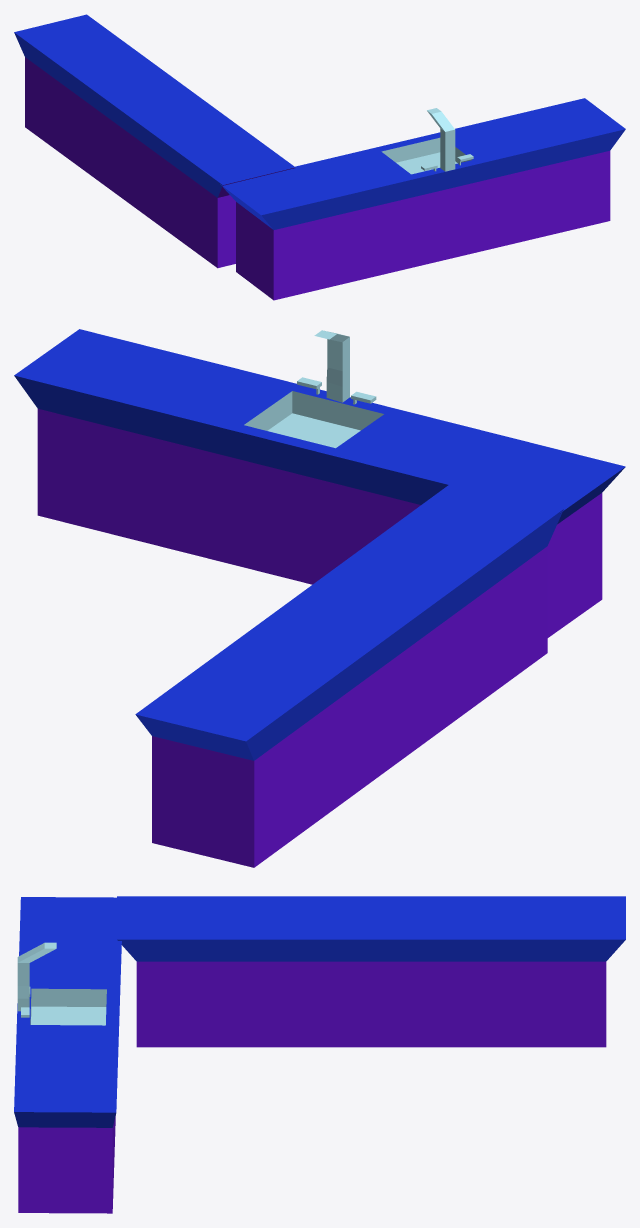
Rendered from kitchen counter.fbx.
The picture shows the model from 3 angles, top to bottom: view 1: azimuth 30°, elevation 25°; view 2: azimuth 150°, elevation 25°; view 3: azimuth 270°, elevation 25°; orthographic projection. The views are drawn at different scales.
Visible parts, largest first — view 1: Cube.005; view 2: Cube.005; view 3: Cube.005.
Part boxes in pixels (left/top/right/bottom): Cube.005: left=14, top=14, right=625, bottom=300; Cube.005: left=14, top=329, right=625, bottom=867; Cube.005: left=14, top=896, right=625, bottom=1213.
Bounding box in the file's own units: 7240 × 2669 × 8682.
